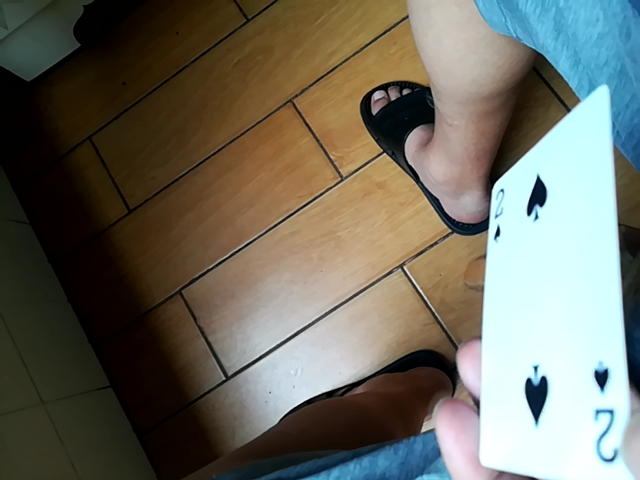ht 2: (479, 90, 631, 470)
